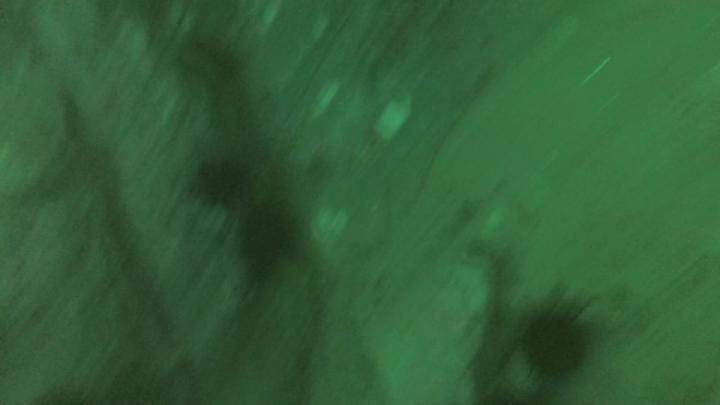echinus: (513, 298, 592, 390), (238, 211, 298, 279), (197, 152, 247, 207)
